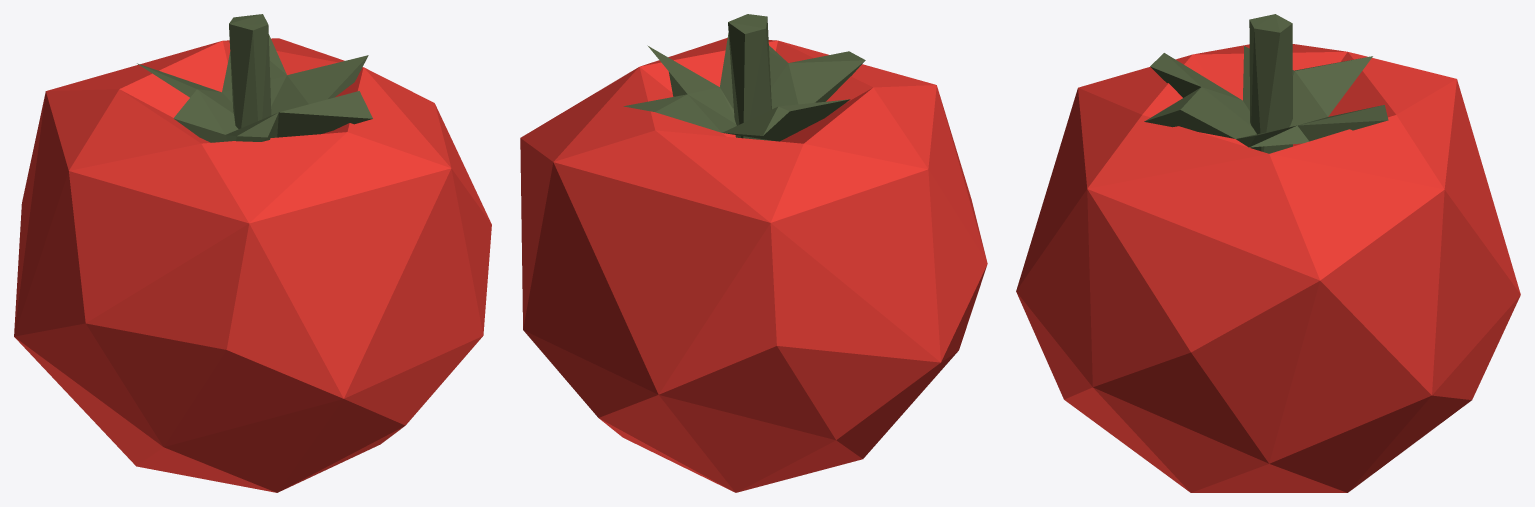
The model's file is SM_Food_Tomato_01.fbx.
3 renders of one model, left to right at view 1: azimuth 30°, elevation 25°; view 2: azimuth 150°, elevation 25°; view 3: azimuth 270°, elevation 25°, orthographic. The views are drawn at different scales.
Visible parts, largest first — view 1: SM_Food_Tomato_01; view 2: SM_Food_Tomato_01; view 3: SM_Food_Tomato_01.
Part boxes in pixels (x1=…): SM_Food_Tomato_01: x1=14, y1=14, x2=491, y2=492; SM_Food_Tomato_01: x1=520, y1=14, x2=987, y2=492; SM_Food_Tomato_01: x1=1016, y1=14, x2=1520, y2=492.
Size of the model in its own units: 0.1062 by 0.1075 by 0.1075.
